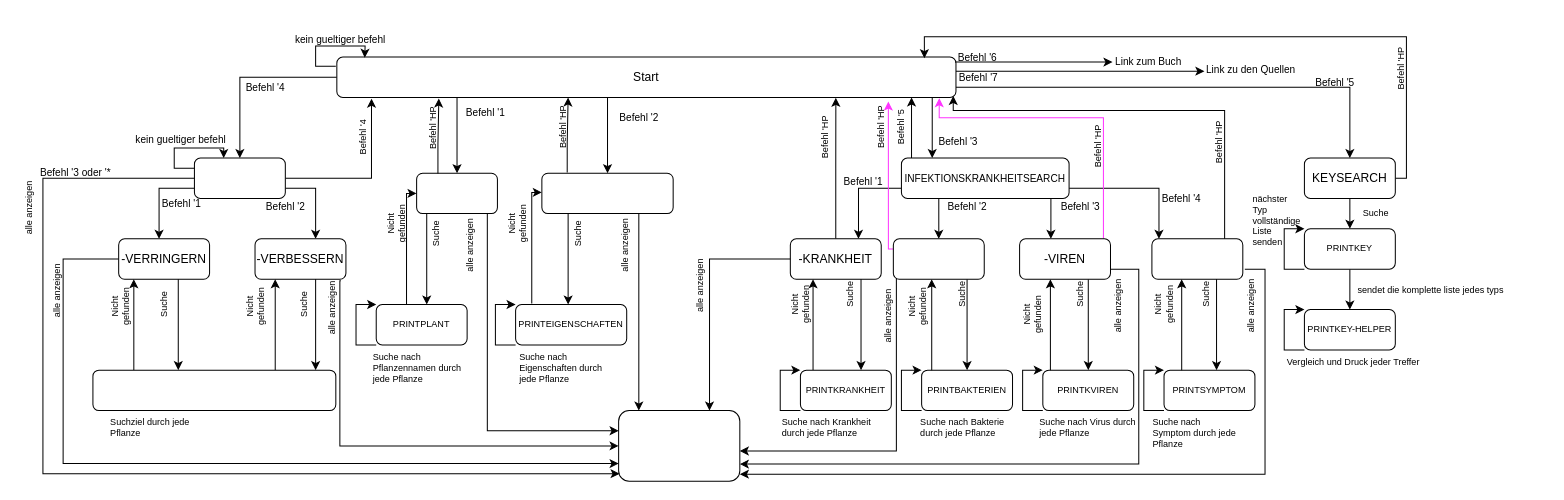
Image size: 1564x500. Some labels were removed from this diagram. Each missing label, with the centre of its shape:
"-BAKTERIEN" goes at pixel 938 258.
"-SYMPTOM" goes at pixel 1197 258.
"EIGENSCHAFTENSEARCH" goes at pixel 607 193.
"PLANTSEARCH" goes at pixel 456 193.
"PRINTALL" goes at pixel 679 445.
"PRINTZIEL" goes at pixel 214 390.
"ZIELSEARCH" goes at pixel 239 177.
